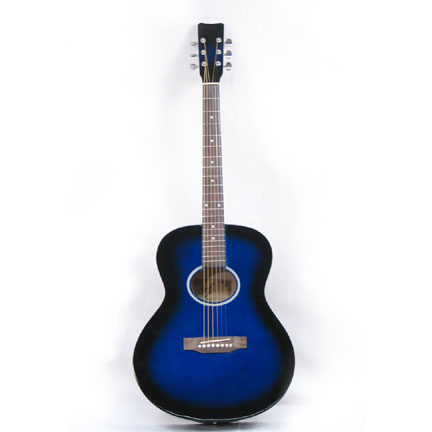guitar: (131, 21, 297, 423)
